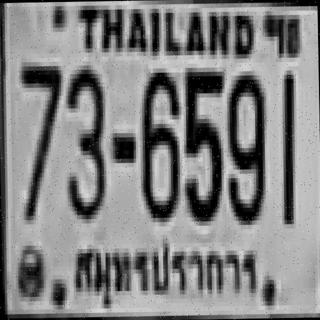N01: (279, 70, 296, 224), (278, 70, 294, 224)
N03: (63, 63, 105, 217)
N05: (181, 67, 223, 217)
N06: (139, 68, 178, 218)
N07: (19, 61, 61, 220)
N09: (225, 71, 265, 221)
P57: (68, 230, 263, 313)
